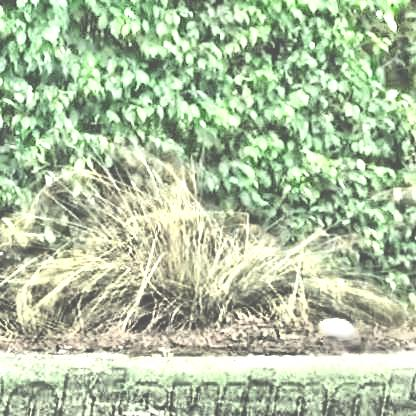golfball: (315, 315, 351, 337)
